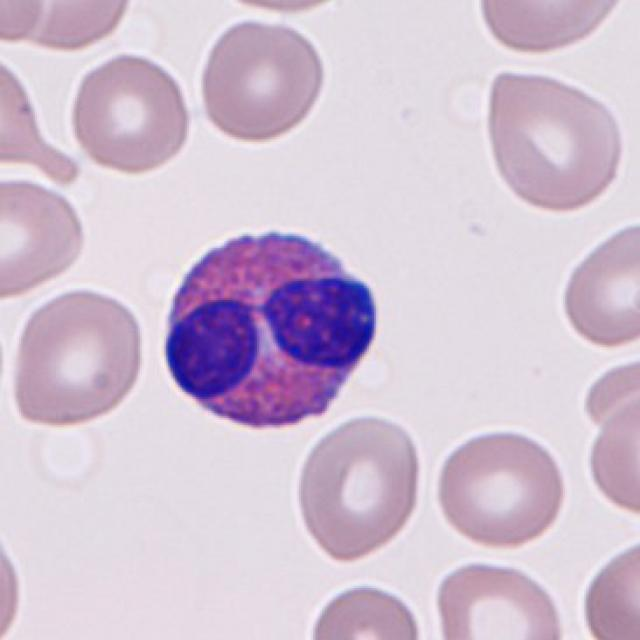Eosinophil: (154, 212, 393, 442)
RBC: (479, 66, 630, 217), (288, 410, 428, 566), (5, 283, 149, 432), (194, 12, 331, 146), (430, 423, 570, 552), (65, 48, 196, 177), (428, 553, 568, 640), (0, 172, 89, 302), (556, 215, 638, 354), (14, 394, 114, 499), (472, 0, 633, 59), (304, 577, 430, 640), (0, 44, 58, 180), (582, 389, 638, 522), (4, 0, 138, 52), (577, 532, 638, 640), (579, 352, 638, 437), (0, 518, 26, 640), (197, 0, 362, 17), (0, 0, 49, 49)
